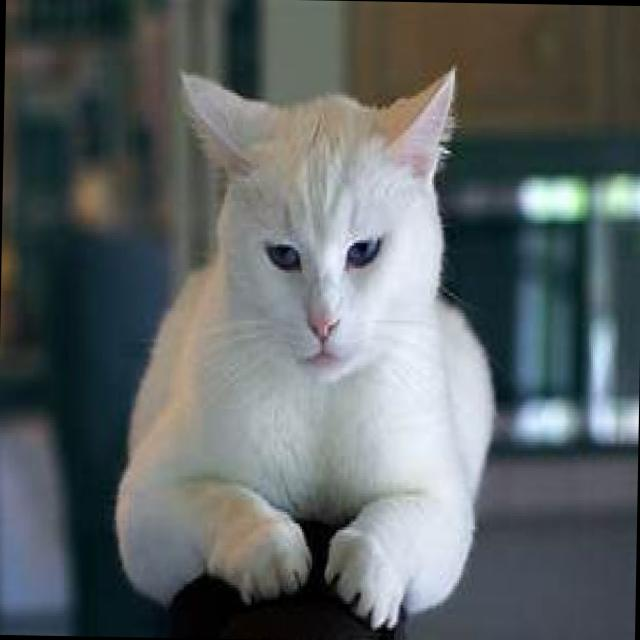animal: (110, 56, 502, 632)
